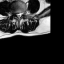CCS_normal: (18, 10, 19, 21)
LFS_normal: (21, 9, 24, 17)
LLS_normal: (19, 10, 21, 19)
RFS_severe_stenosis: (14, 10, 16, 16)
RLS_normal: (16, 10, 18, 18)
